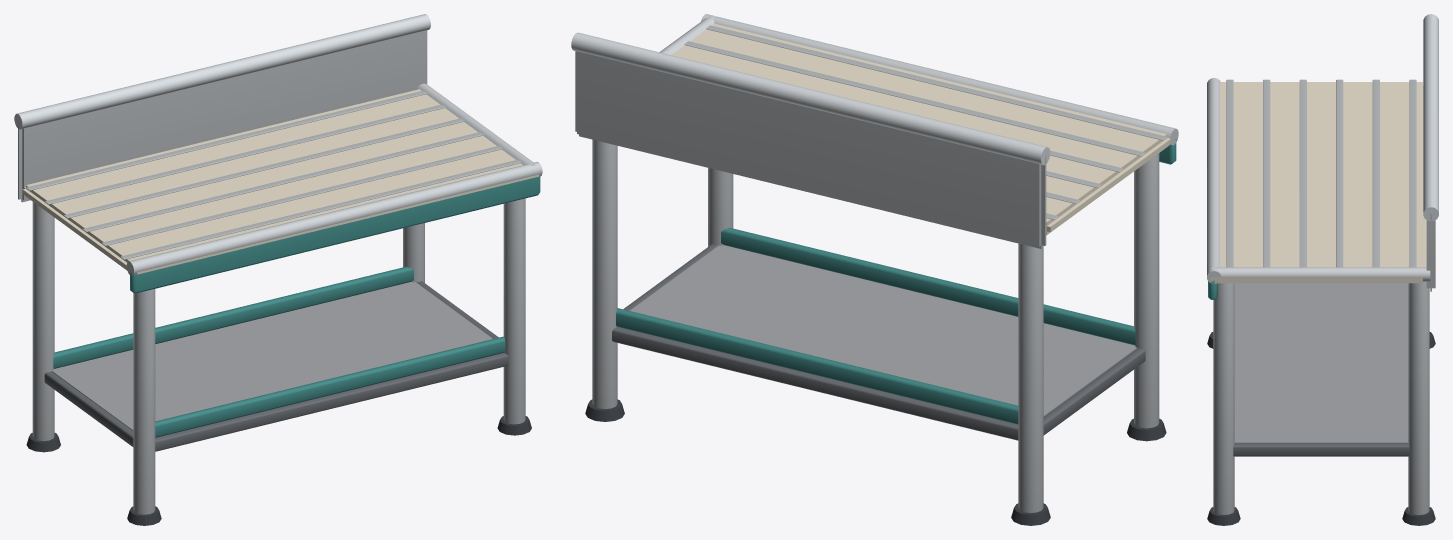
File: SM_DishTable_Clean_15.glb
3 views of the same model, side by side, from view 1: azimuth 30°, elevation 25°; view 2: azimuth 150°, elevation 25°; view 3: azimuth 270°, elevation 25° (orthographic). The views are drawn at different scales.
Parts seen in each view (by area): view 1: SM_DishTable_Clean_15; view 2: SM_DishTable_Clean_15; view 3: SM_DishTable_Clean_15.
Boxes of the visible parts, x1=… form: SM_DishTable_Clean_15: x1=14, y1=14, x2=542, y2=525; SM_DishTable_Clean_15: x1=571, y1=14, x2=1178, y2=525; SM_DishTable_Clean_15: x1=1207, y1=14, x2=1438, y2=525.
Bounding box in the file's own units: 1.5 × 1.16 × 0.7607.
Materials: 1 (1 with a texture image).
